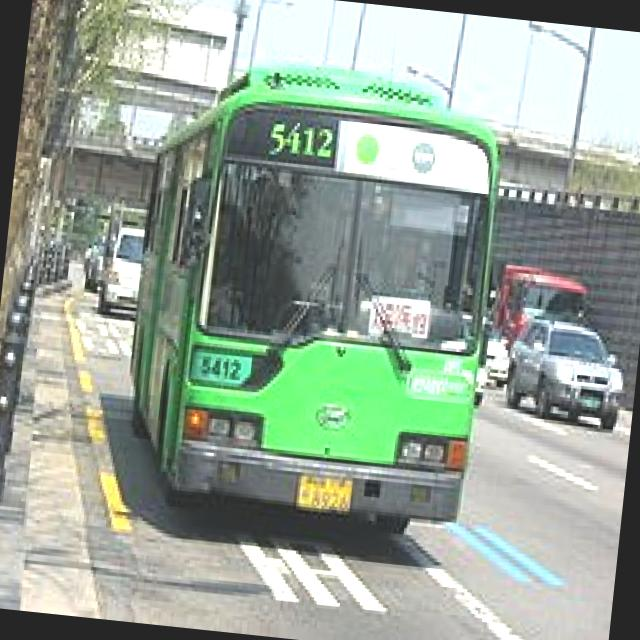bus-number: (265, 119, 336, 165)
